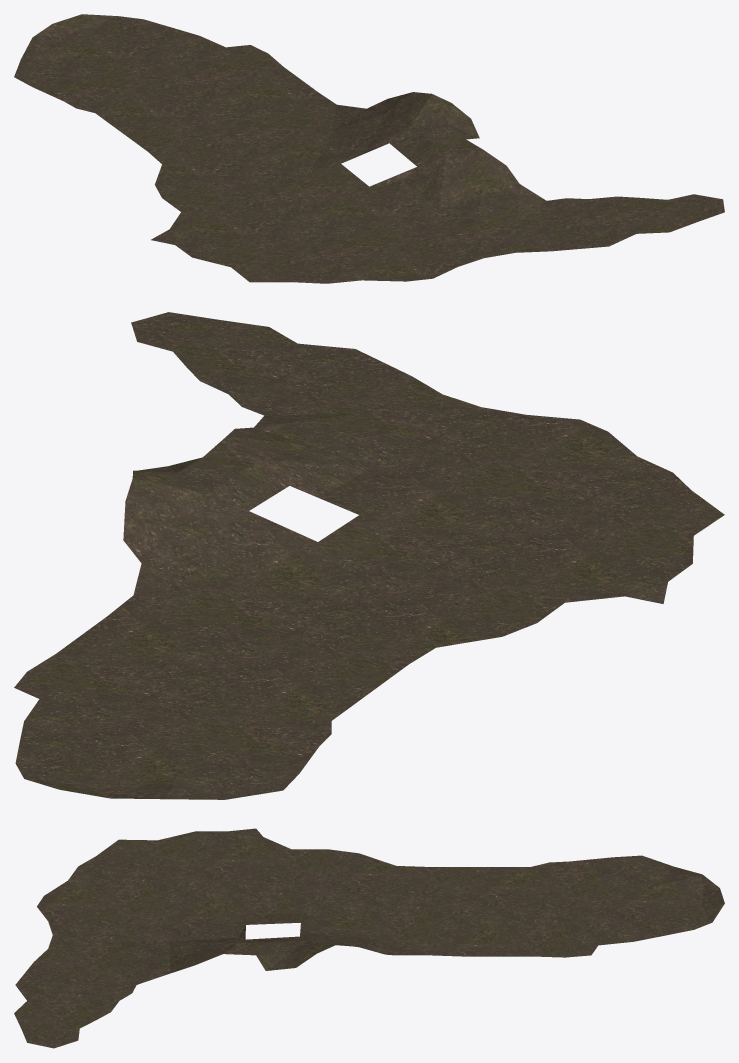
Rendered from terrain_base11.fbx.
3 views of the same model, one above another, from view 1: azimuth 30°, elevation 25°; view 2: azimuth 150°, elevation 25°; view 3: azimuth 270°, elevation 25° (orthographic). The views are drawn at different scales.
Parts seen in each view (by area): view 1: obj0.168; view 2: obj0.168; view 3: obj0.168.
Part boxes in pixels (<box>): obj0.168: <box>14,14,724,283</box>; obj0.168: <box>14,312,724,799</box>; obj0.168: <box>14,828,724,1048</box>.
Bounding box in the file's own units: 38.3 × 2.92 × 51.75.
